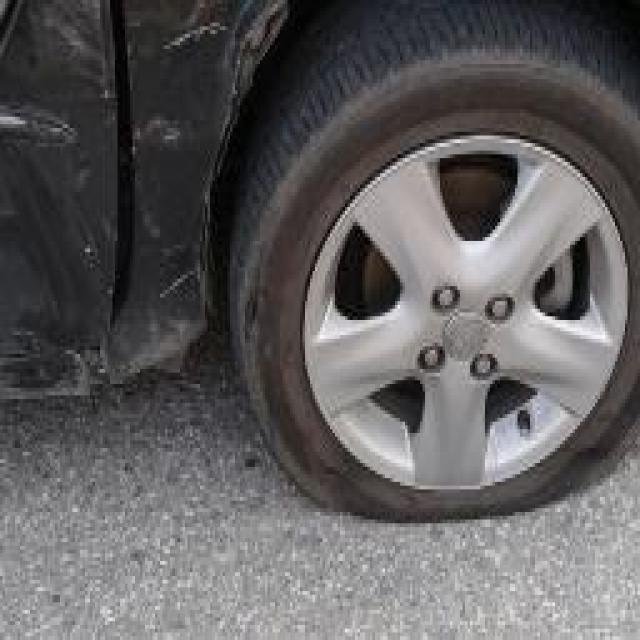Door: (2, 4, 115, 407)
Fender: (118, 4, 215, 399)
